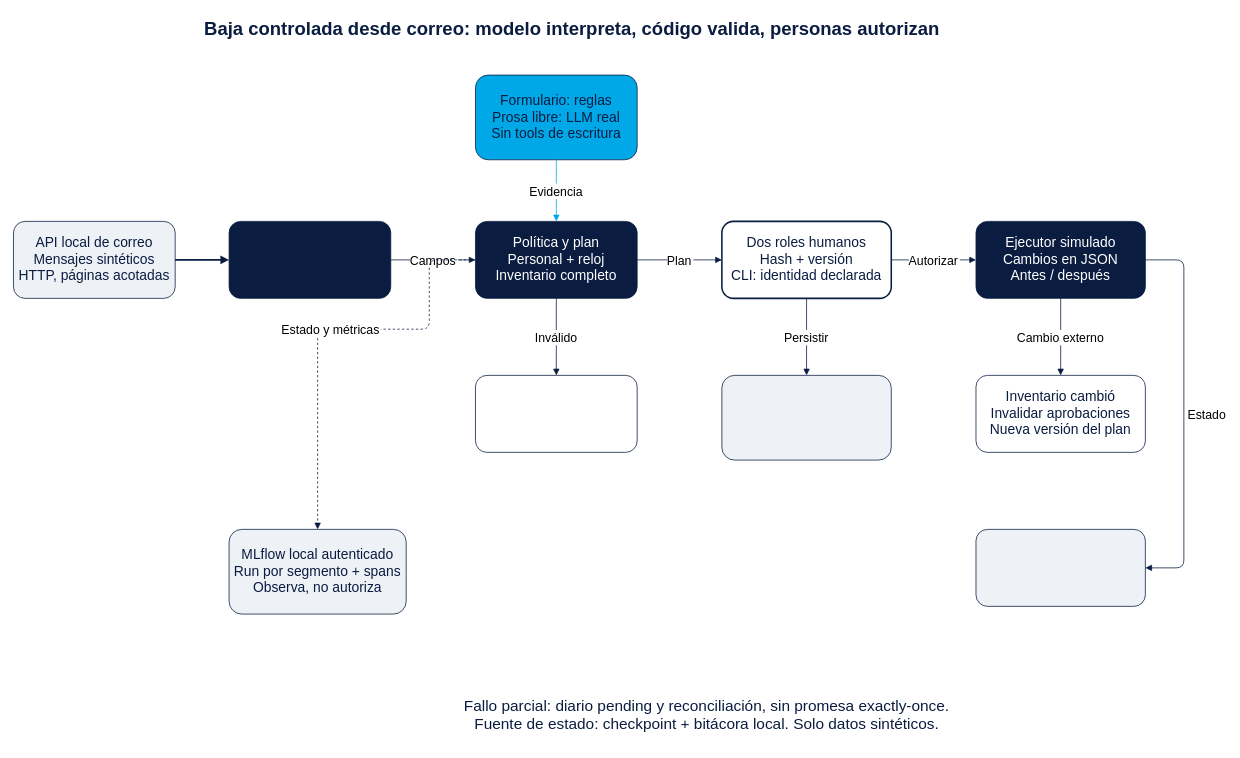
Image size: 1240x758. Some labels were removed from this diagram. The centre of each missing label's shape, as x and y in pixels:
Checkpoint SQLite Pausa / reanudación Plan persistente: point (806, 417)
Cierre comprobado Pendientes y fallos Borrador, no envío: point (1060, 567)
Identidad de evento ID + hash Duplicado o conflicto: point (309, 259)
Rechazar y registrar Sin cambios de Git: point (556, 413)
